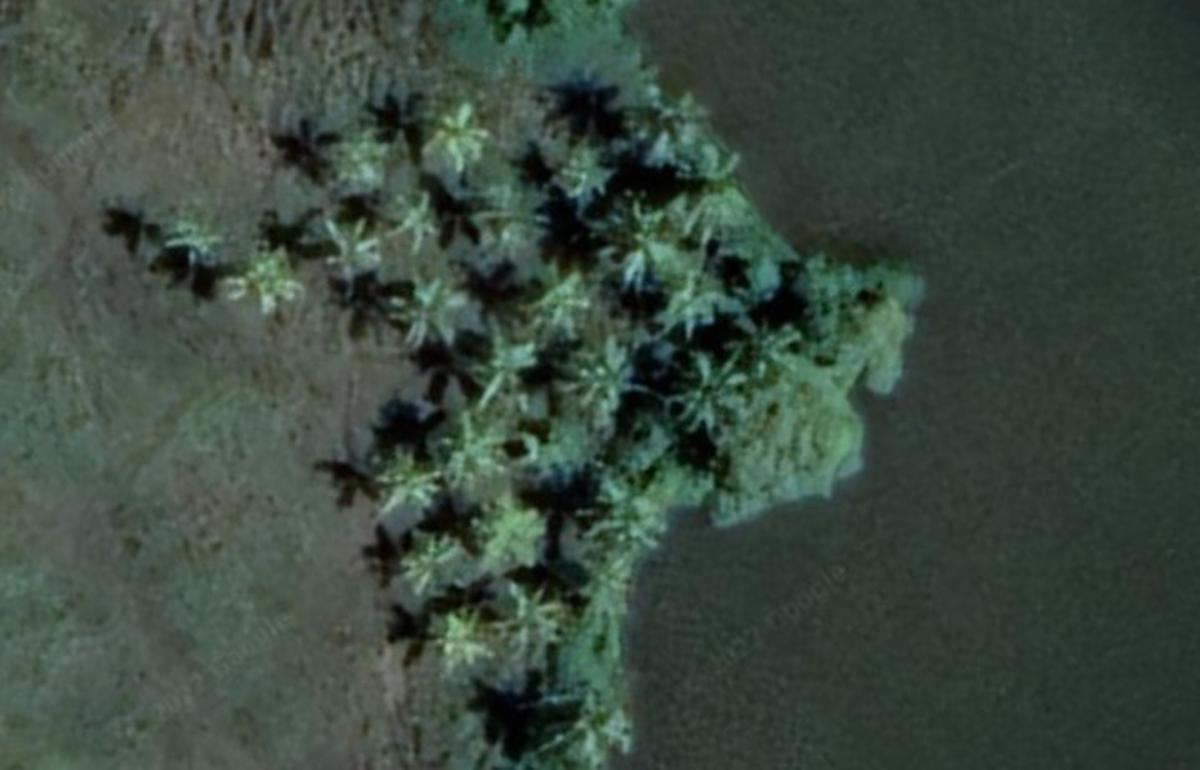coconut: (657, 138, 763, 252), (664, 344, 751, 445), (585, 480, 674, 572), (455, 321, 547, 401), (602, 207, 681, 299), (538, 691, 630, 770), (557, 344, 642, 428), (438, 413, 522, 495), (215, 251, 302, 323), (421, 102, 497, 179), (386, 276, 466, 346), (476, 497, 550, 572), (657, 276, 728, 354), (530, 264, 600, 339), (329, 127, 401, 199), (503, 574, 570, 649), (317, 215, 383, 291), (388, 187, 451, 264), (396, 523, 465, 590), (364, 440, 435, 500), (433, 600, 493, 667), (160, 219, 224, 281), (547, 148, 599, 207)
